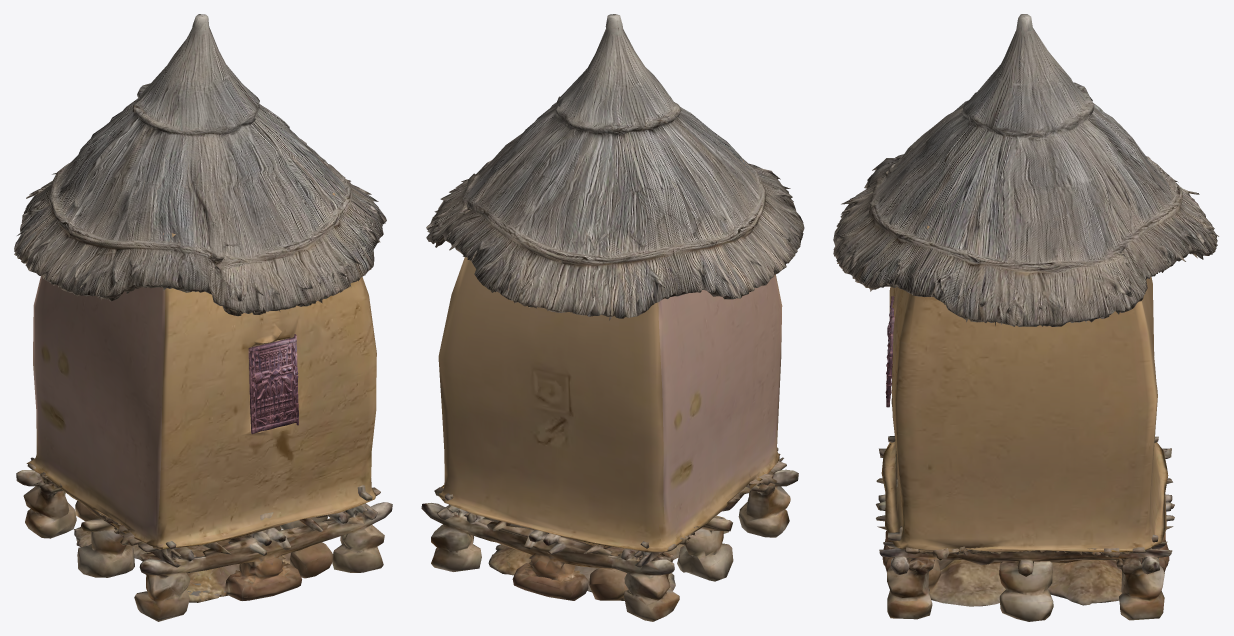
File: le_guyo_AR.glb
3 renders of one model, left to right at view 1: azimuth 30°, elevation 25°; view 2: azimuth 150°, elevation 25°; view 3: azimuth 270°, elevation 25°, orthographic. The views are drawn at different scales.
Visible parts, largest first — view 1: Wall, roof, rock, Window; view 2: Wall, roof, rock; view 3: roof, Wall, rock, Window.
Boxes of the visible parts, x1,y1,x2,y2 form: Wall: [26, 193, 376, 549]; roof: [14, 14, 386, 316]; rock: [16, 457, 392, 621]; Window: [248, 334, 298, 434]; Wall: [438, 160, 782, 552]; roof: [426, 14, 804, 320]; rock: [421, 448, 798, 621]; roof: [833, 14, 1218, 326]; Wall: [881, 225, 1168, 553]; rock: [876, 436, 1174, 621]; Window: [885, 296, 894, 407].
Bounding box in the file's own units: 1.23 × 1.92 × 1.23.
4 materials, 4 textured.
